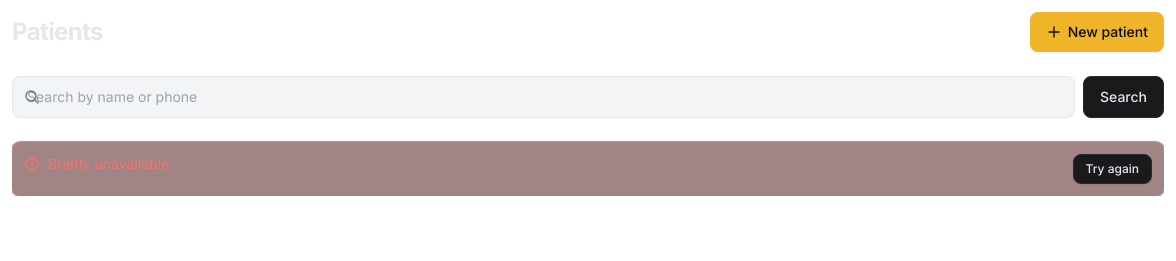
Test case: PatientsPage when the roster cannot be loaded › offers a retry that re-reads the roster
Expected: the message "Briefly unavailable. Try again" is shown, top-left (12, 142), bottom-right (1164, 196)
Click the button "Try again": [1112, 169] box top-left (1073, 154), bottom-right (1152, 184)
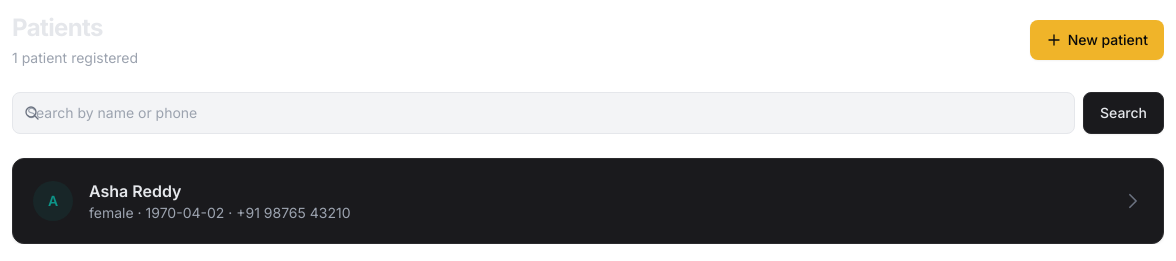
Result: the text "Asha Reddy" is shown at top-left (89, 181), bottom-right (182, 201)
Result: the message "Briefly unavailable. Try again" is gone
Result: the text "1 patient registered" is shown at top-left (12, 48), bottom-right (138, 68)
